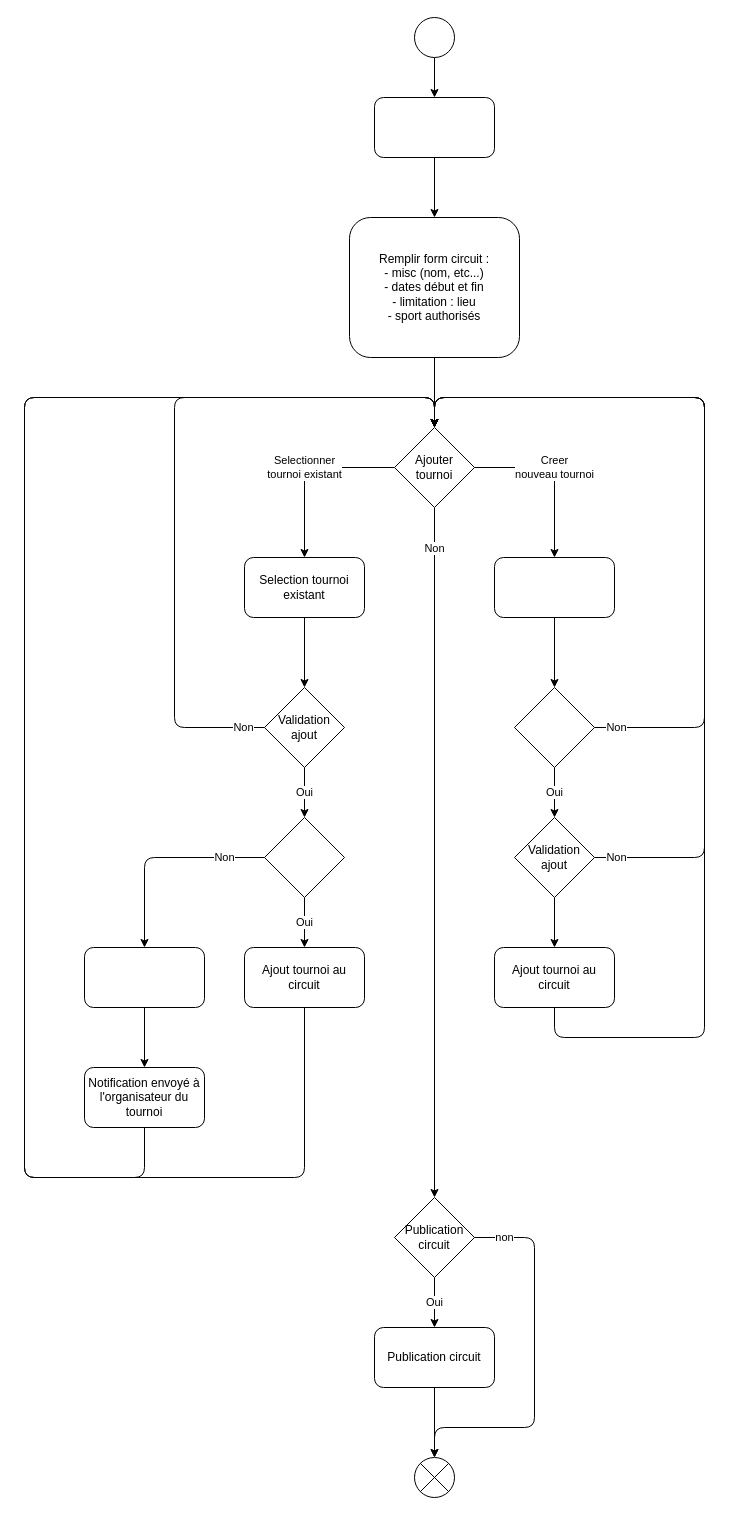
This 730x1515 diagram has some shape labels left out. The box of each missing label's shape, as (x1, y1, x2, y2) in pixels:
Ajout tournoi à liste des tournois authorisé à participer au circuit: (84, 946, 204, 1008)
Création nouveau tournoi: (494, 556, 614, 618)
Créer circuit: (374, 96, 494, 158)
Tournoi créé: (514, 686, 594, 768)
Utilisateur organisateur du tournoi: (264, 816, 344, 898)
